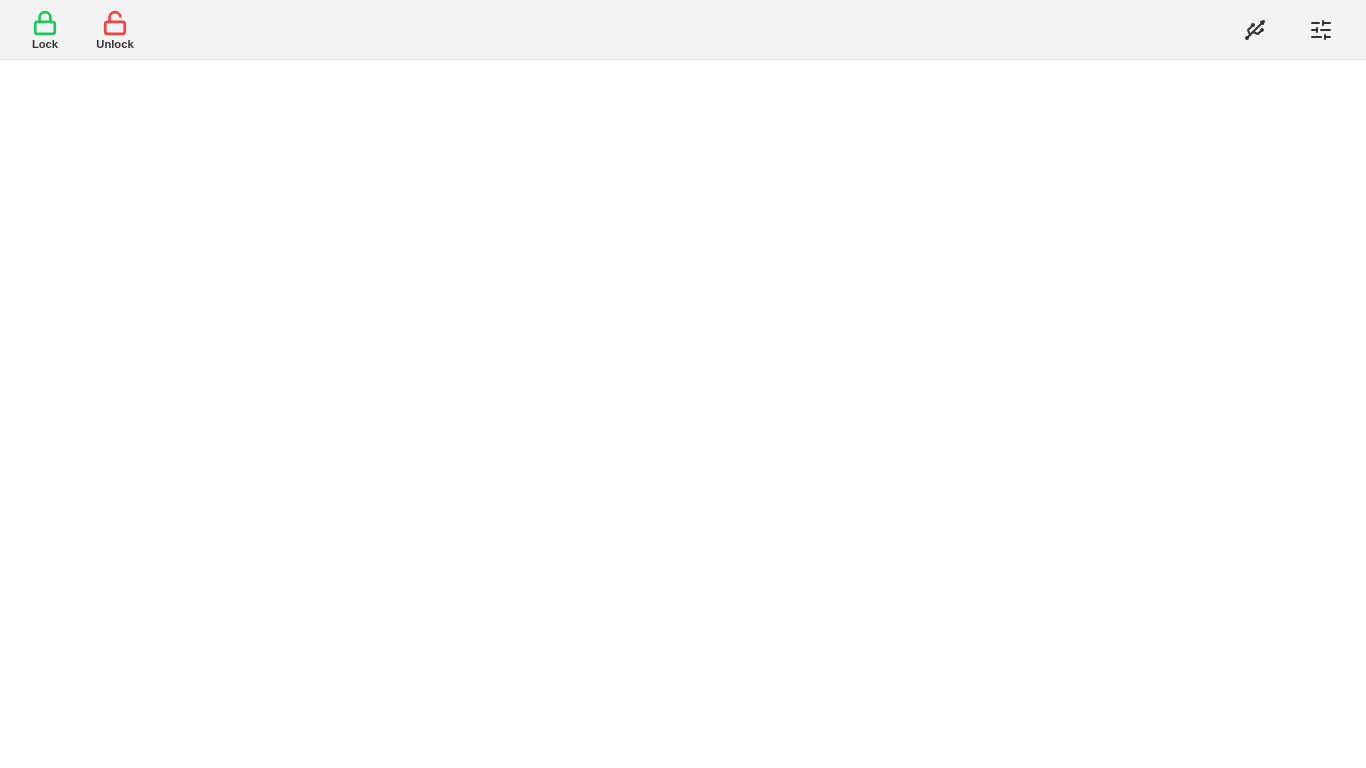
it: Toolbar - advanced menu › closes on a mouse down outside but not inside
The width and height of the screenshot is (1366, 768).
Step 1. Click the 4th button with class "tool-btn" → (1321, 30), box [1291,4,1351,54]
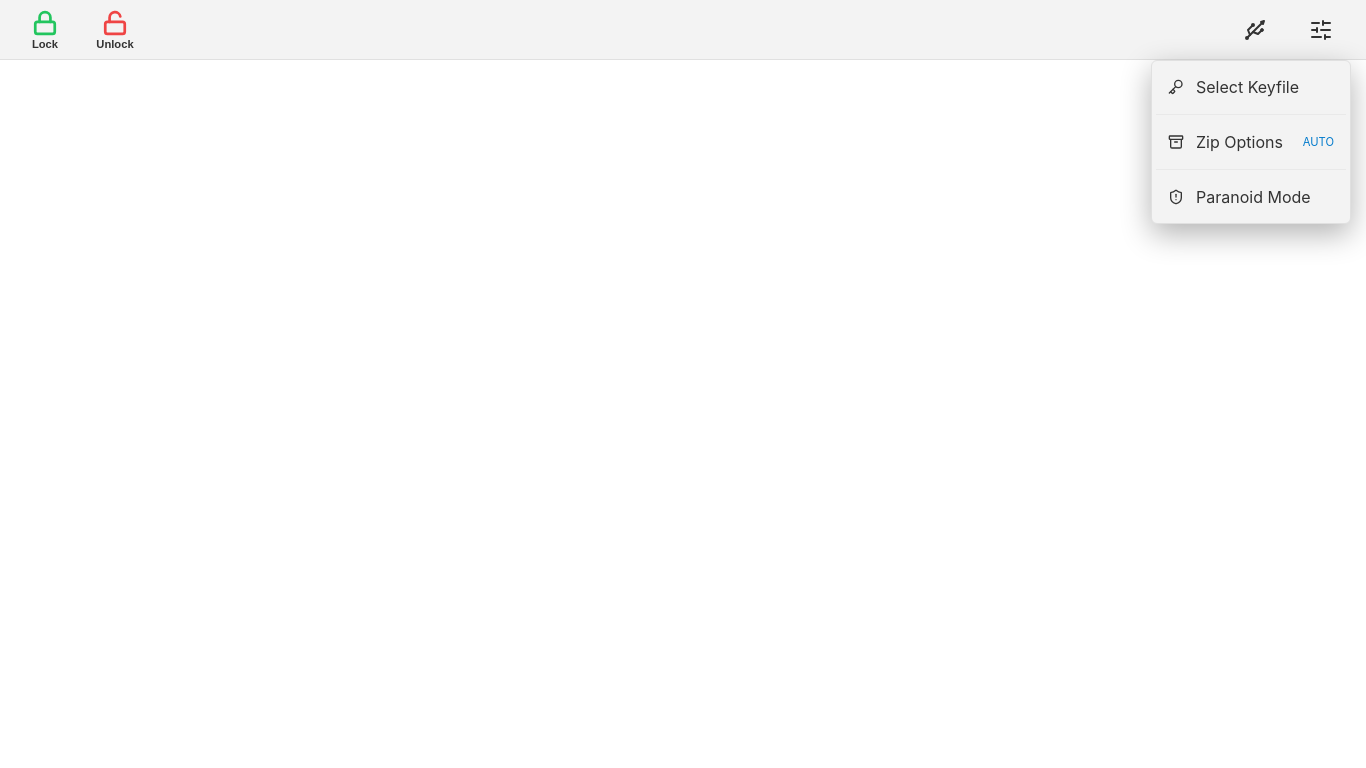
Step 2. Press the mouse on the text "Paranoid Mode" → (1253, 196), box [1196,186,1311,206]
Expected: the text "Paranoid Mode" is shown, [1196,186,1311,206]
Step 3. Press the mouse on the element showing "Lock Unlock Select Keyfile Zip Options AUTO Paranoid Mode" → (683, 384), box [0,0,1365,767]
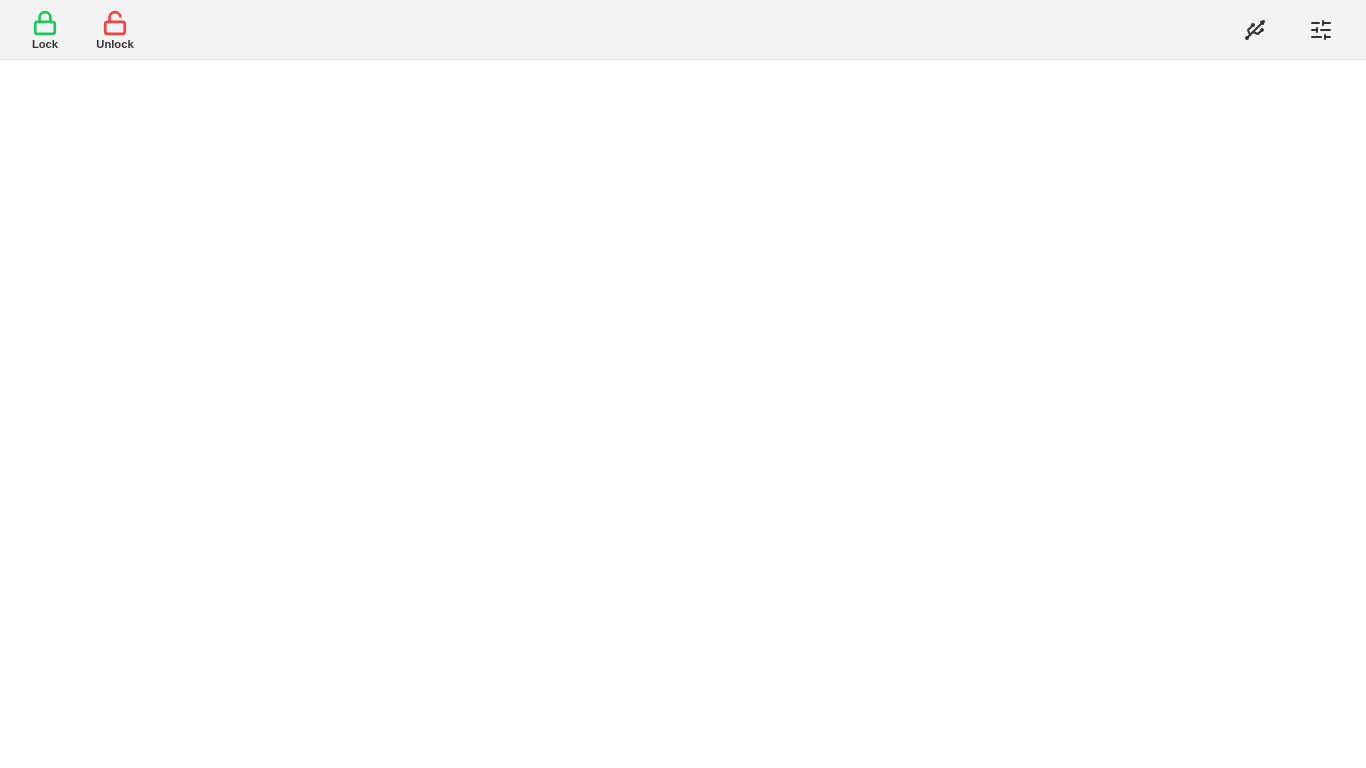
Expected: the text "Paranoid Mode" is gone
